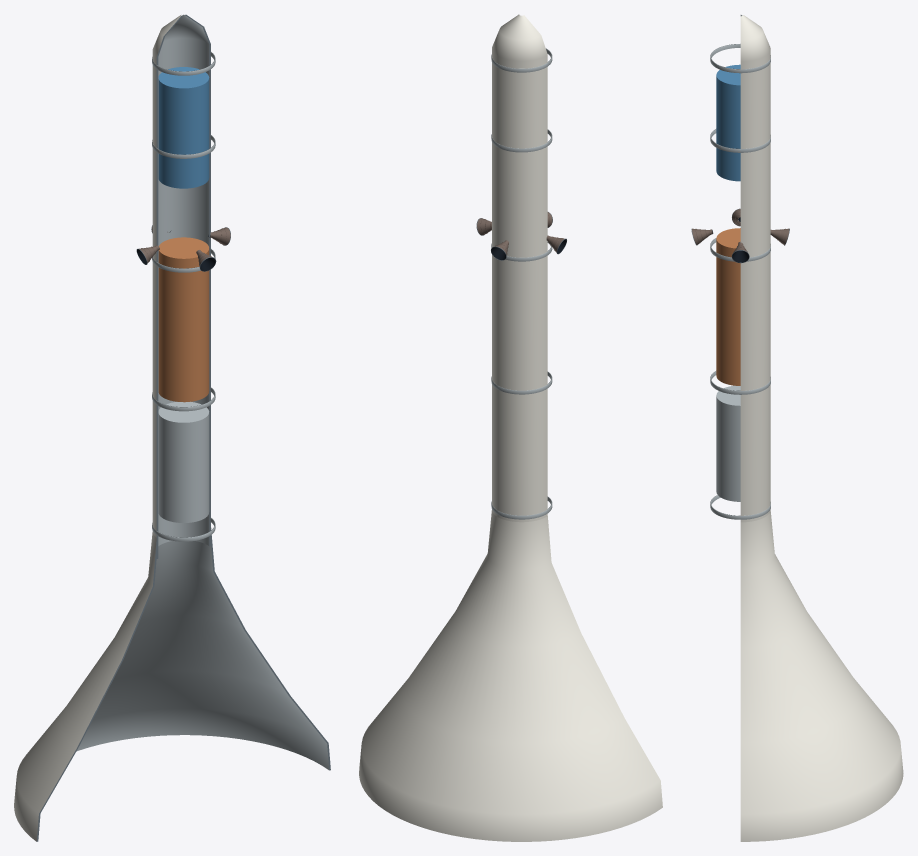
The model's file is orion_las_cutaway.glb.
The picture shows the model from 3 angles, left to right: view 1: azimuth 30°, elevation 25°; view 2: azimuth 150°, elevation 25°; view 3: azimuth 270°, elevation 25°; orthographic projection. The views are drawn at different scales.
Parts seen in each view (by area): view 1: orion_las.mesh_Satin_aluminum, orion_las.mesh_Warm_white_enamel, orion_las.cutaway.abort_motor.mesh_Cutaway_propellant, orion_las.cutaway.jettison_motor.mesh_Satin_aluminum, orion_las.cutaway.attitude_motor.mesh_Cutaway_liquid_oxygen, orion_las.mesh_Machined_steel; view 2: orion_las.mesh_Warm_white_enamel, orion_las.mesh_Satin_aluminum; view 3: orion_las.mesh_Warm_white_enamel, orion_las.cutaway.abort_motor.mesh_Cutaway_propellant, orion_las.cutaway.jettison_motor.mesh_Satin_aluminum, orion_las.cutaway.attitude_motor.mesh_Cutaway_liquid_oxygen, orion_las.mesh_Satin_aluminum.
Boxes of the visible parts, x1,y1,x2,y2 form: orion_las.mesh_Satin_aluminum: (76, 14, 329, 769); orion_las.mesh_Warm_white_enamel: (14, 15, 180, 841); orion_las.cutaway.abort_motor.mesh_Cutaway_propellant: (158, 237, 209, 402); orion_las.cutaway.jettison_motor.mesh_Satin_aluminum: (158, 401, 209, 522); orion_las.cutaway.attitude_motor.mesh_Cutaway_liquid_oxygen: (158, 67, 209, 188); orion_las.mesh_Machined_steel: (36, 14, 330, 841); orion_las.mesh_Warm_white_enamel: (359, 14, 662, 841); orion_las.mesh_Satin_aluminum: (491, 48, 552, 519); orion_las.mesh_Warm_white_enamel: (740, 15, 903, 841); orion_las.cutaway.abort_motor.mesh_Cutaway_propellant: (716, 228, 740, 385); orion_las.cutaway.jettison_motor.mesh_Satin_aluminum: (716, 385, 740, 501); orion_las.cutaway.attitude_motor.mesh_Cutaway_liquid_oxygen: (716, 64, 740, 181); orion_las.mesh_Satin_aluminum: (710, 15, 770, 519).
Size of the model in its own units: 5.22 by 13.41 by 3.4.
